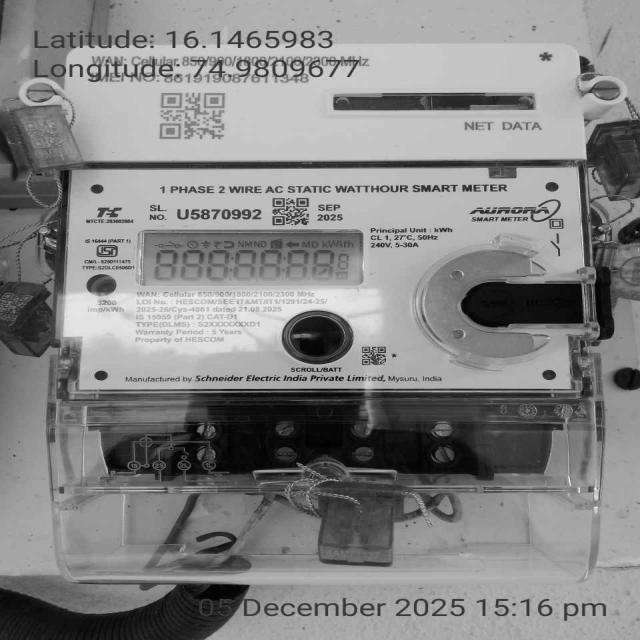meter: (66, 48, 584, 389)
